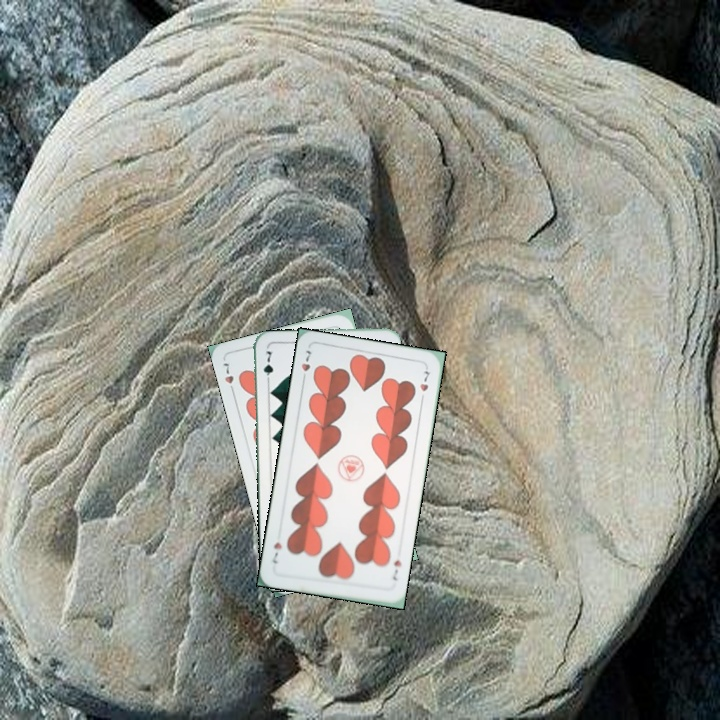G7: (259, 347, 276, 386)
H7: (219, 358, 237, 397), (297, 345, 314, 385), (388, 556, 404, 583)
